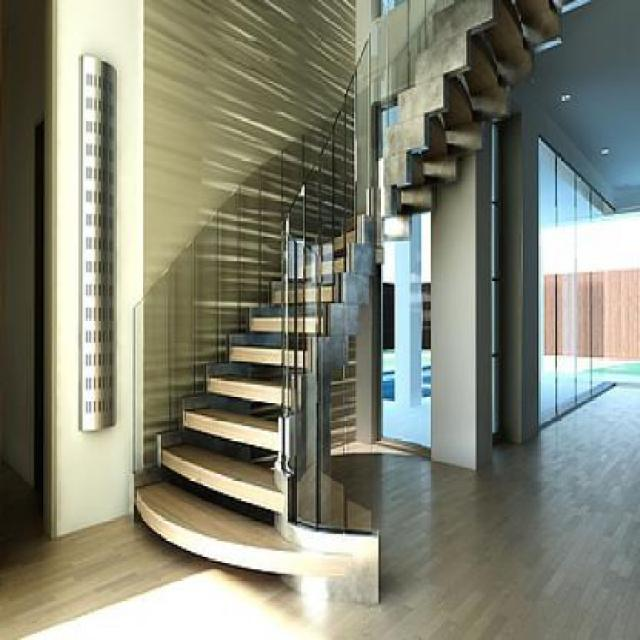stair: (127, 11, 385, 612)
